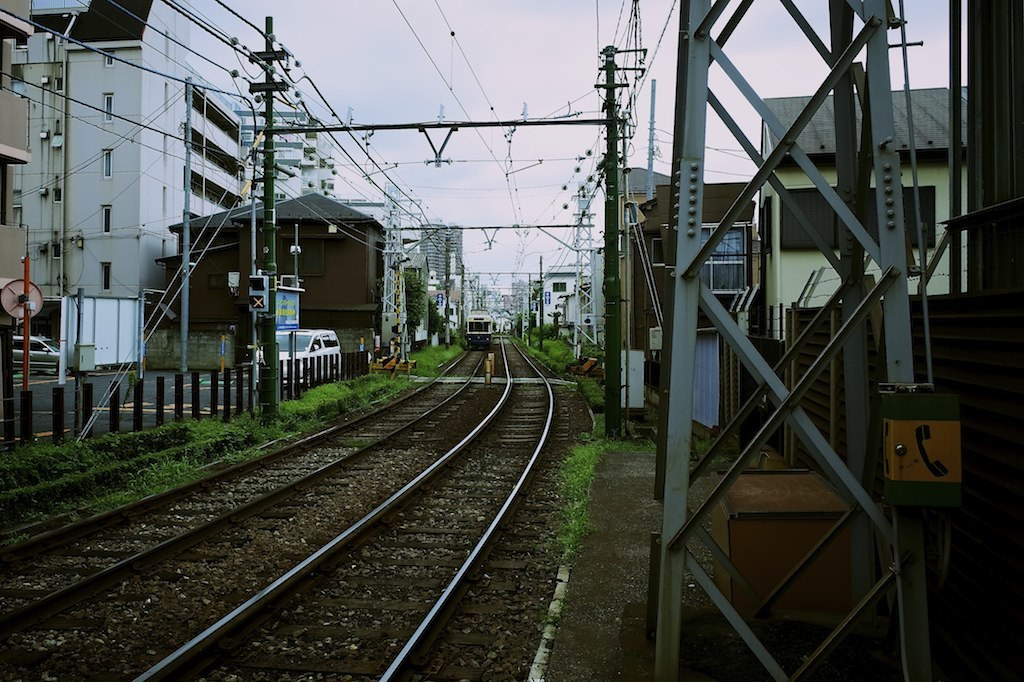Tree: (403, 269, 426, 333)
